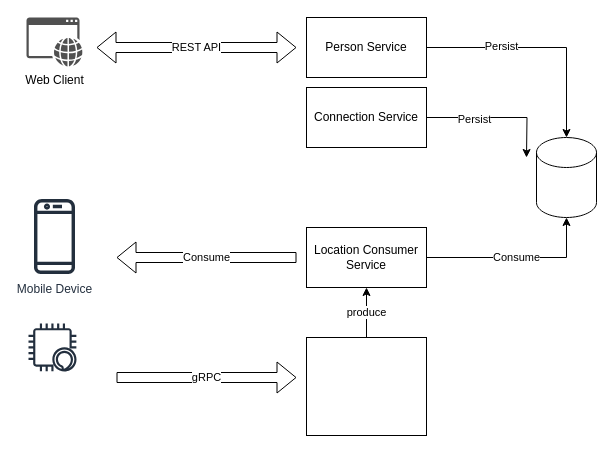
This 614x453 diagram has some shape labels left out. The centre of each missing label's shape, as x and y in pixels:
"IoT device" belongs at point 52,347.
"Location gRPC Service" belongs at point 366,386.
